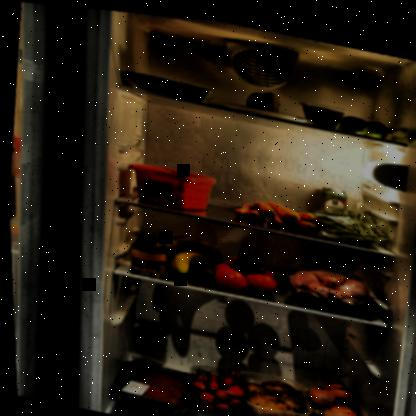banana: (148, 223, 220, 275)
beef: (113, 355, 186, 412)
butter: (121, 155, 217, 213)
carrot: (228, 189, 319, 231)
cheese: (243, 81, 282, 110)
chicken: (282, 256, 377, 313)
corn: (124, 240, 162, 276)
green_beans: (301, 190, 392, 246)
heavy_cream: (318, 178, 347, 212)
lime: (330, 105, 391, 132)
onion: (294, 367, 364, 415)
potato: (238, 364, 309, 415)
strawberries: (178, 355, 248, 411)
tomato: (205, 243, 282, 295)
